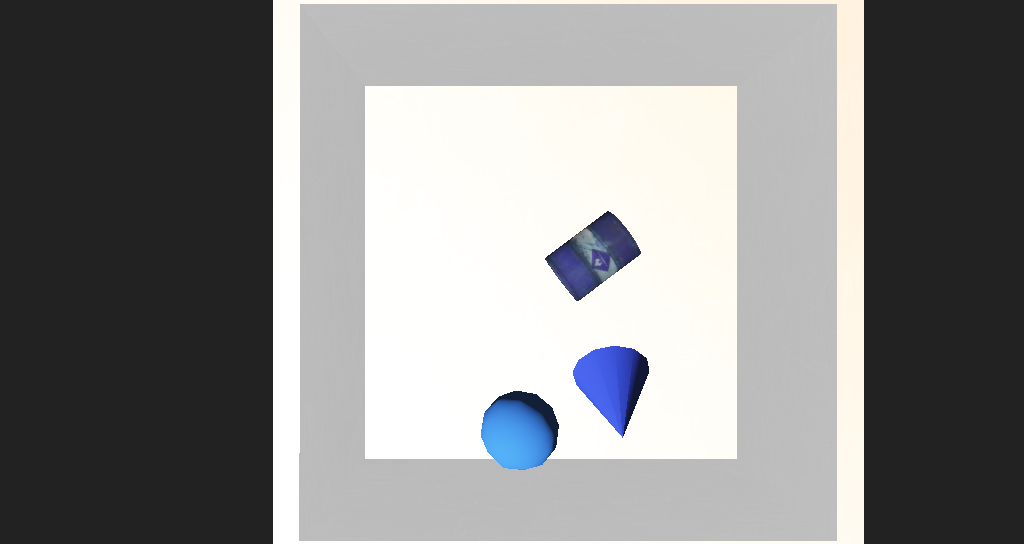cone: (499, 236, 579, 289)
cylinder: (525, 305, 593, 382)
sphere: (445, 336, 512, 379)
